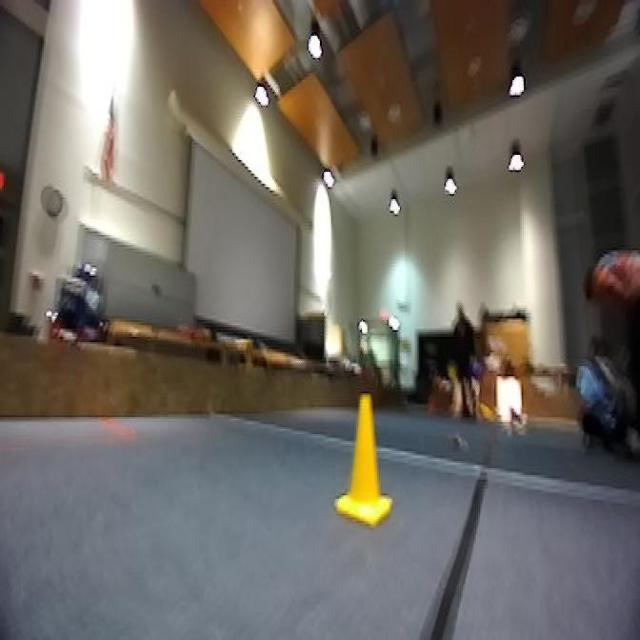frc_cone: (336, 395, 394, 528)
